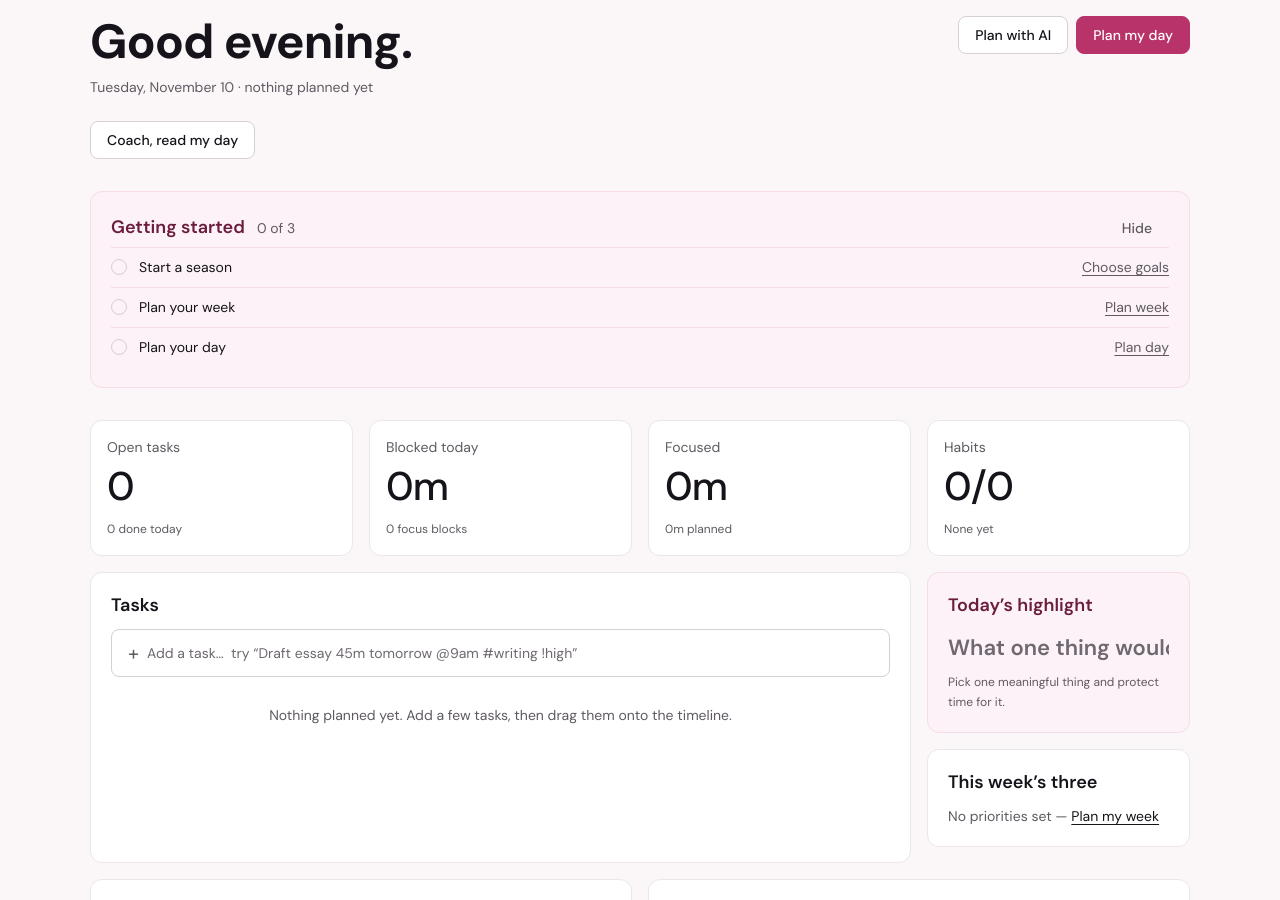
coach with a key › shows the error without throwing
The image size is (1280, 900).
Click the button "Coach, read my day" at point(173, 140), box [90,121,255,159]
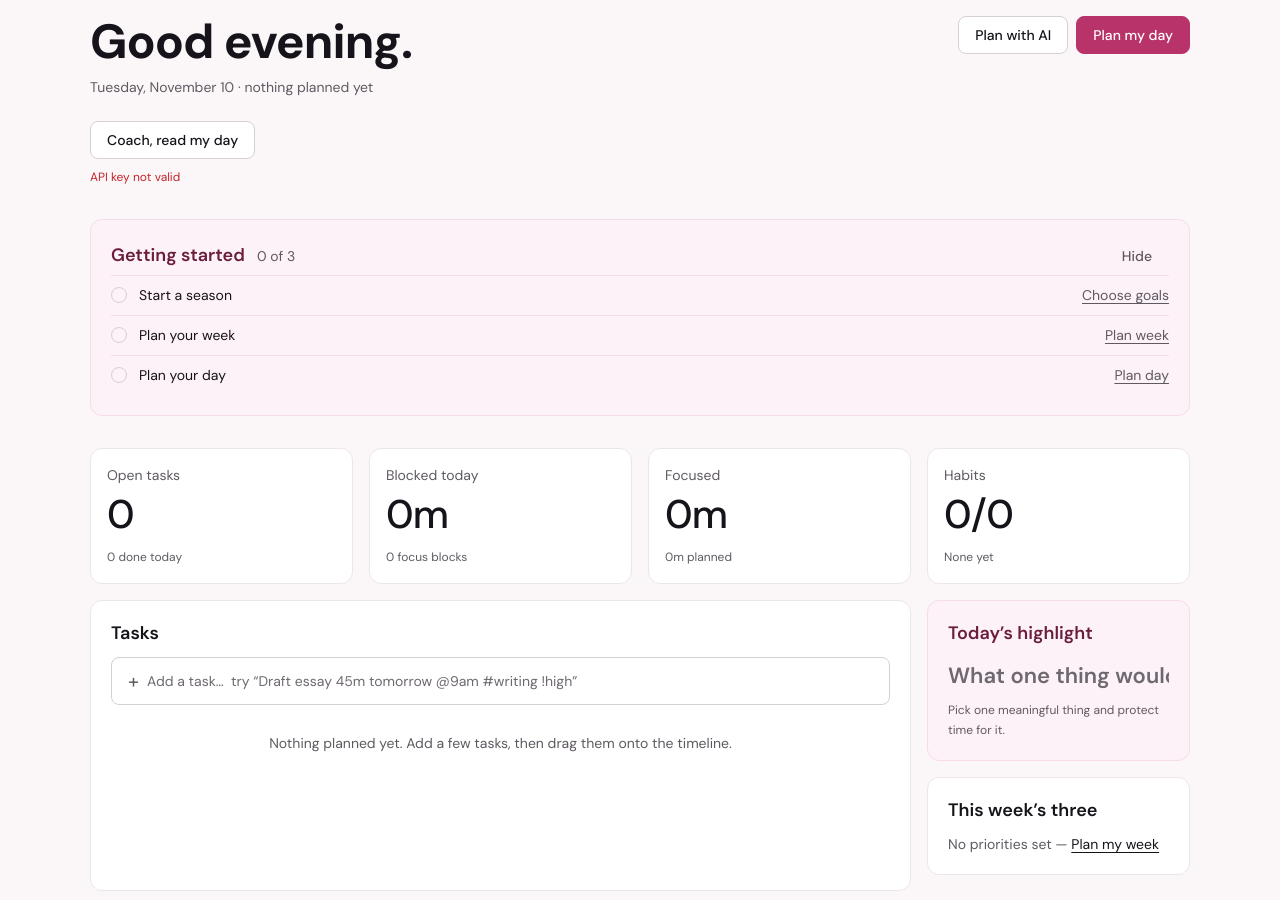
Result: the message reads "API key not valid" at [90,169,180,185]
